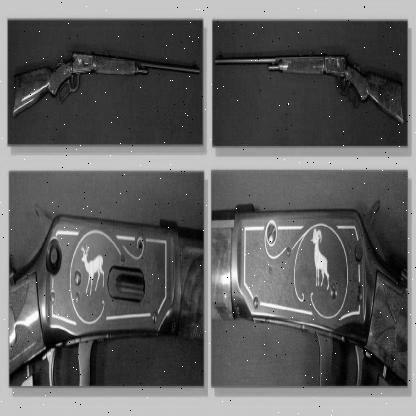rifle: (215, 36, 416, 195), (2, 23, 203, 146)
